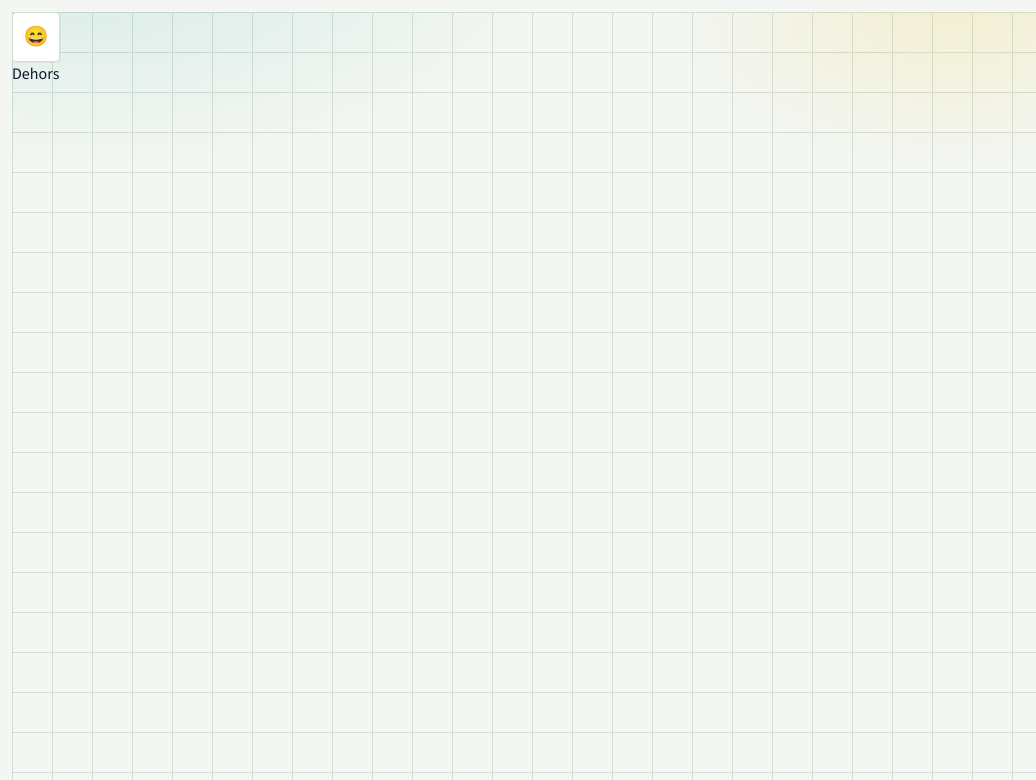
Scenario: EmojiPicker › s'ouvre au clic
Click the button named "Choisir un emoji".
click(36, 37)  # box [12, 12, 60, 62]
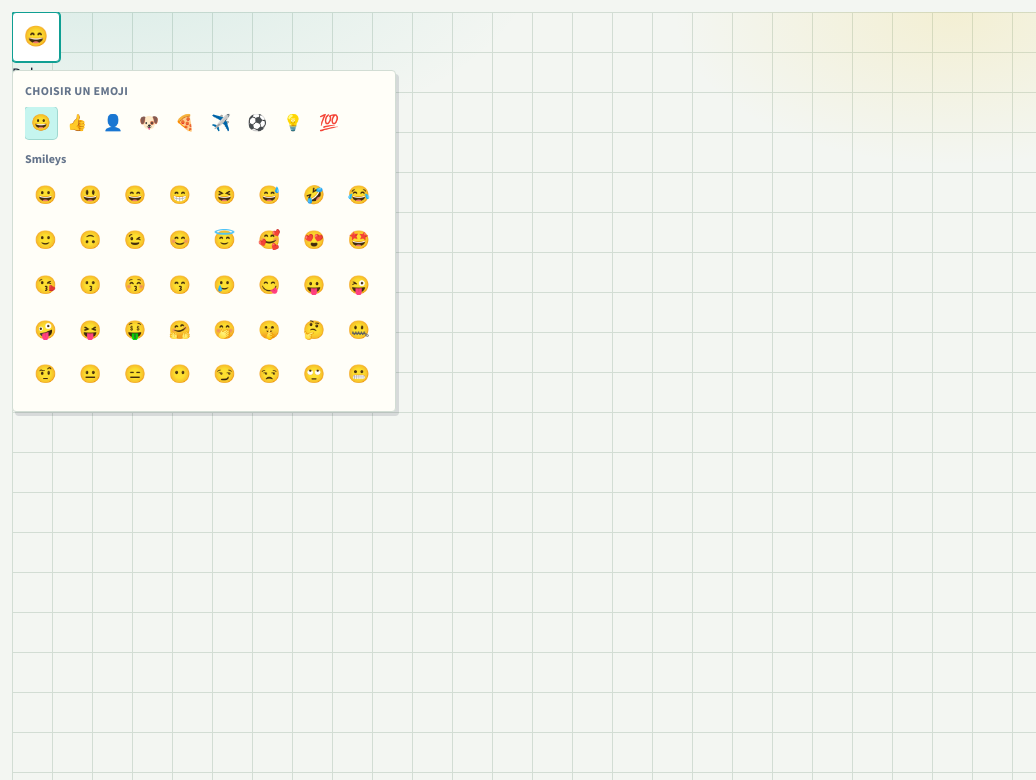
Expected: the text "Choisir un emoji" is shown, [25, 83, 128, 99]
